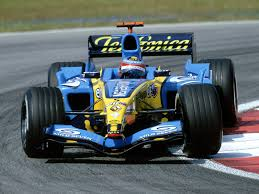race car: (19, 20, 239, 162)
